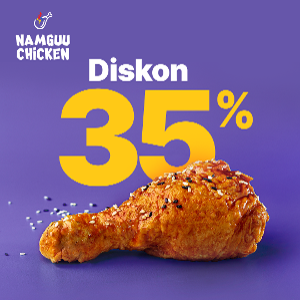Ayam: (33, 158, 272, 280)
